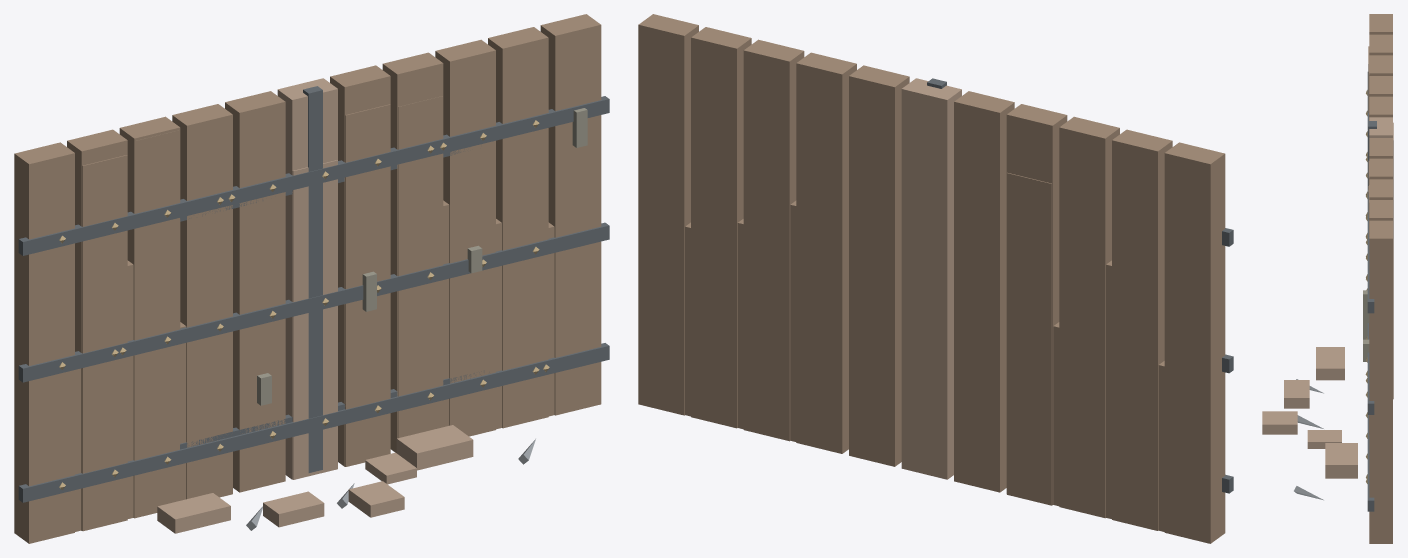
The model's file is puerta.glb.
3 views of the same model, side by side, from view 1: azimuth 30°, elevation 25°; view 2: azimuth 150°, elevation 25°; view 3: azimuth 270°, elevation 25° (orthographic). The views are drawn at different scales.
Visible parts, largest first — view 1: puerta_ok, puerta_dañada, puerta_rota; view 2: puerta_ok, puerta_dañada, puerta_rota; view 3: puerta_ok, puerta_rota, puerta_dañada.
Boxes of the visible parts, <box> form: puerta_ok: <box>14,14,609,543</box>; puerta_dañada: <box>19,96,587,531</box>; puerta_rota: <box>75,149,554,533</box>; puerta_ok: <box>638,14,1233,543</box>; puerta_dañada: <box>1007,172,1232,505</box>; puerta_rota: <box>685,200,1164,531</box>; puerta_ok: <box>1365,14,1392,543</box>; puerta_rota: <box>1262,347,1357,500</box>; puerta_dañada: <box>1363,46,1393,510</box>.
Bounding box in the file's own units: 9.7 × 6.05 × 2.34.
